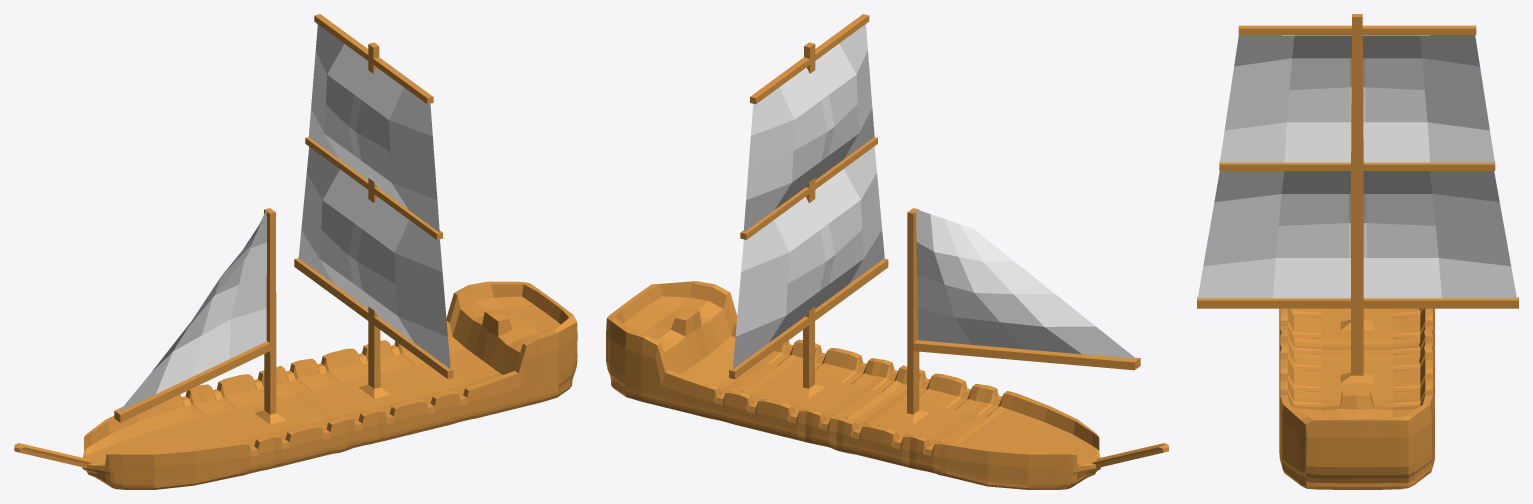
Rendered from corvette.glb.
The picture shows the model from 3 angles, left to right: view 1: azimuth 30°, elevation 25°; view 2: azimuth 150°, elevation 25°; view 3: azimuth 270°, elevation 25°; orthographic projection. The views are drawn at different scales.
Visible parts, largest first — view 1: Cube; view 2: Cube; view 3: Cube.
Part boxes in pixels (<box>): Cube: <box>14,14,577,489</box>; Cube: <box>606,14,1168,489</box>; Cube: <box>1197,14,1518,489</box>.
Size of the model in its own units: 33.11 by 21.97 by 16.29.
